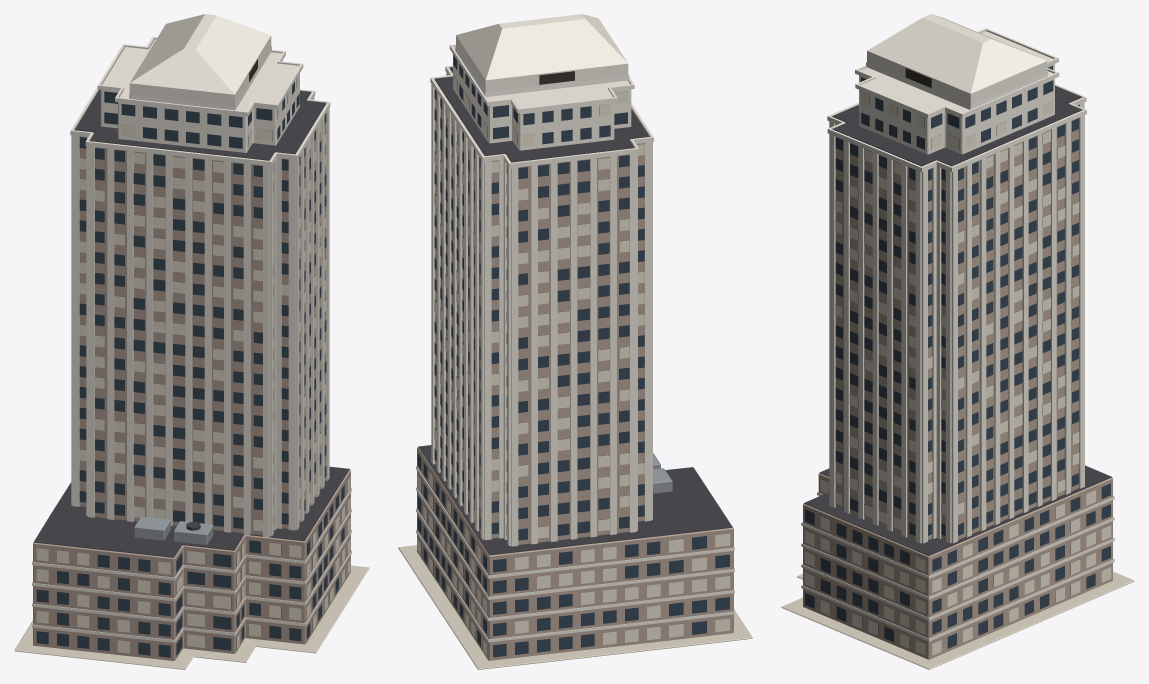
Rendered from stevenson-place.glb.
3 views of the same model, side by side, from view 1: azimuth 30°, elevation 25°; view 2: azimuth 150°, elevation 25°; view 3: azimuth 270°, elevation 25° (orthographic). The views are drawn at different scales.
Visible parts, largest first — view 1: stevenson-place_body, stevenson-place_night_glow; view 2: stevenson-place_body, stevenson-place_night_glow; view 3: stevenson-place_body, stevenson-place_night_glow.
Boxes of the visible parts, x1=… form: stevenson-place_body: x1=14, y1=14, x2=369, y2=669; stevenson-place_night_glow: x1=36, y1=46, x2=350, y2=653; stevenson-place_body: x1=398, y1=14, x2=752, y2=669; stevenson-place_night_glow: x1=417, y1=46, x2=730, y2=655; stevenson-place_body: x1=781, y1=14, x2=1134, y2=669; stevenson-place_night_glow: x1=804, y1=62, x2=1111, y2=655.
Size of the model in its own units: 67.06 by 103 by 58.29.
